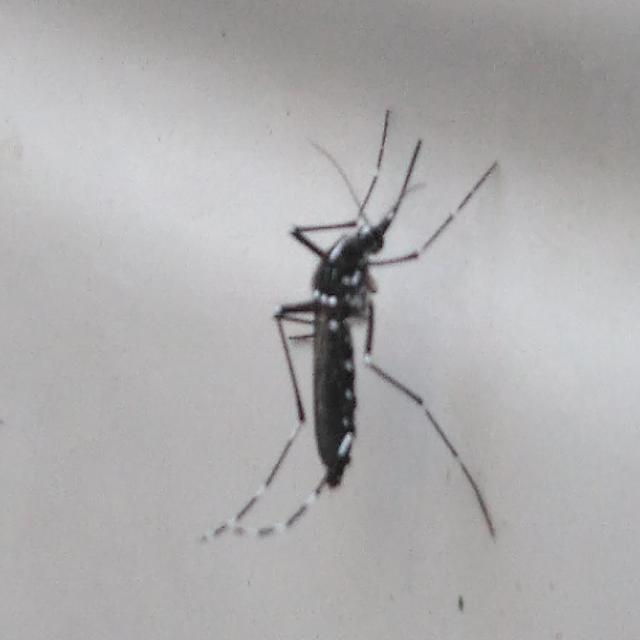albopictus: (208, 95, 512, 558)
